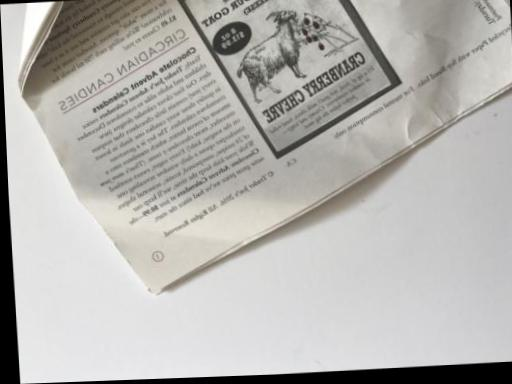paper: (2, 0, 511, 292)
